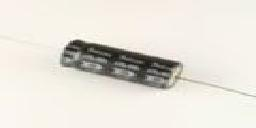Electrolytic-Capacitor: (56, 37, 256, 99)
